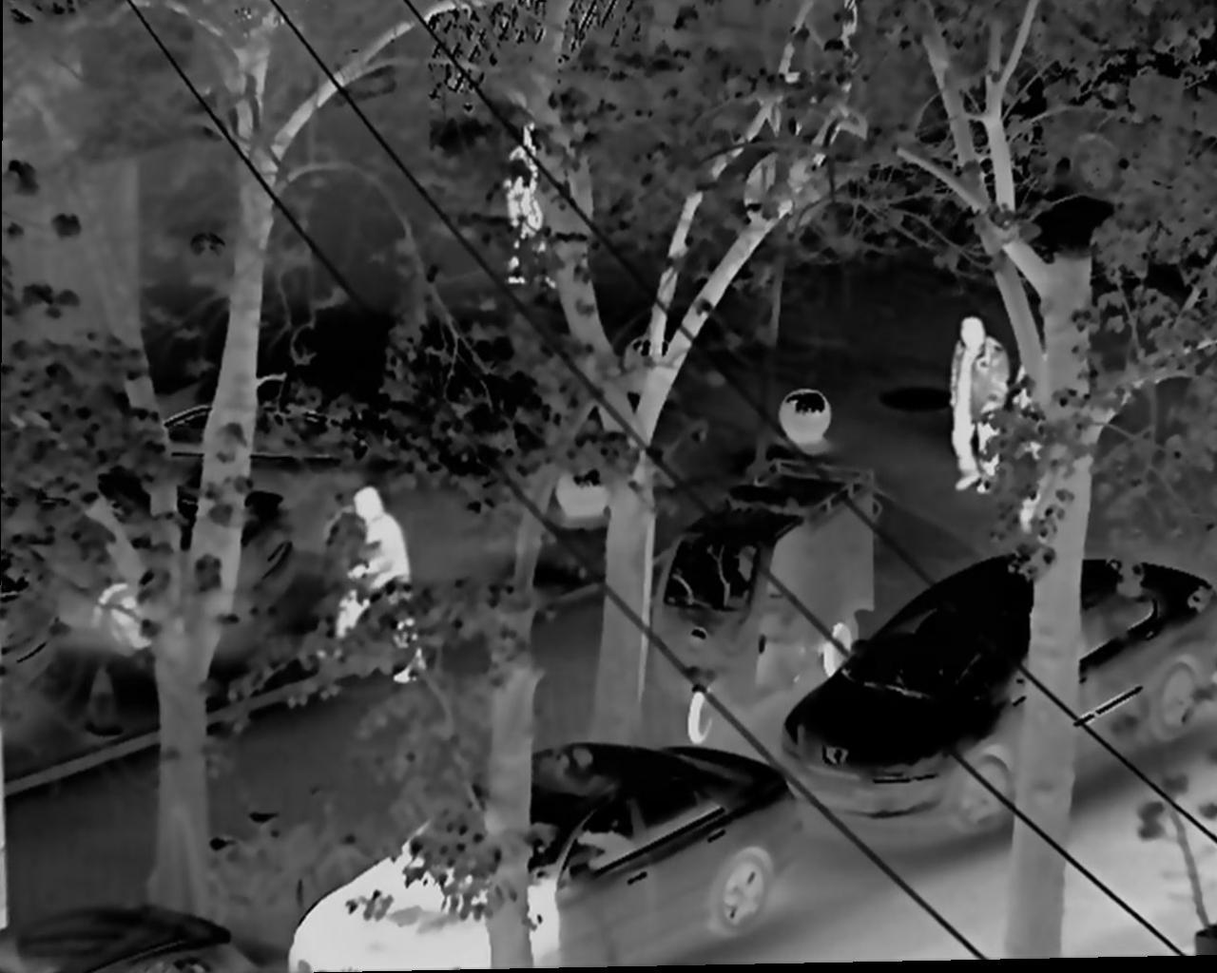person: (338, 475, 435, 695), (936, 304, 1014, 506), (491, 124, 568, 300)
